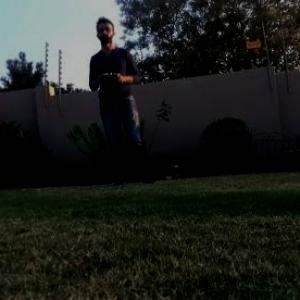follow: (85, 11, 162, 190)
